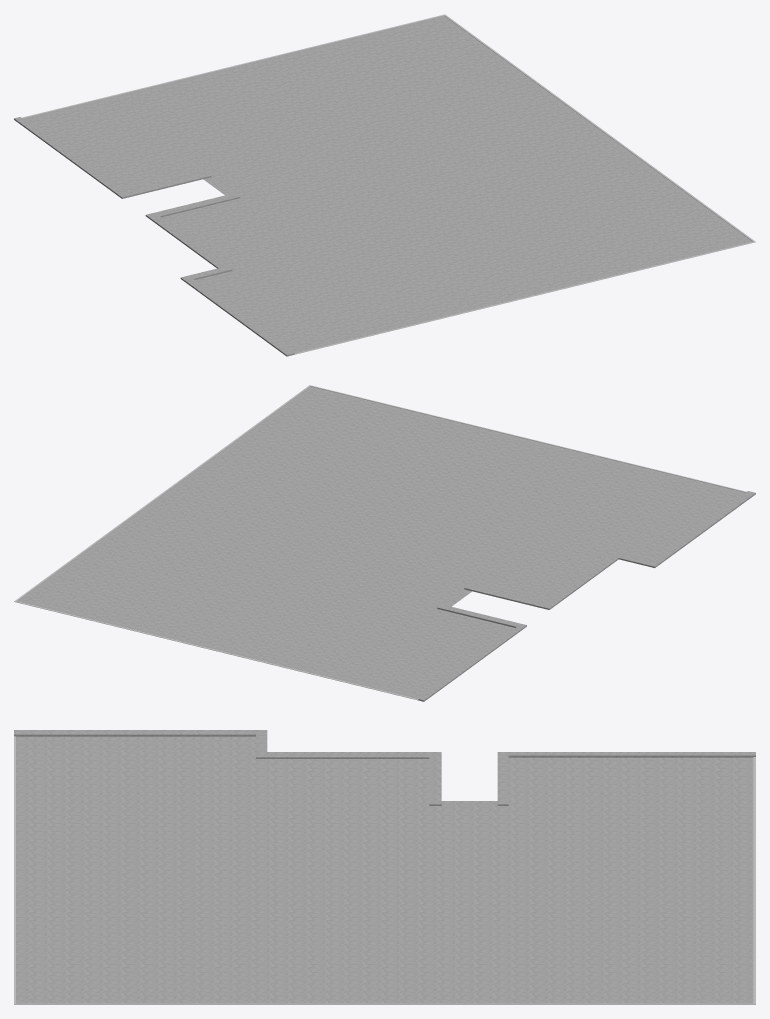
Rendered from Street_C_01.fbx.
3 renders of one model, top to bottom at view 1: azimuth 30°, elevation 25°; view 2: azimuth 150°, elevation 25°; view 3: azimuth 270°, elevation 25°, orthographic. The views are drawn at different scales.
Visible parts, largest first — view 1: Street_C_01; view 2: Street_C_01; view 3: Street_C_01.
Boxes of the visible parts, x1,y1,x2,y2 form: Street_C_01: [14, 14, 755, 356]; Street_C_01: [14, 385, 755, 701]; Street_C_01: [14, 730, 755, 1004].
Bounding box in the file's own units: 10456 × 31.24 × 12000.
